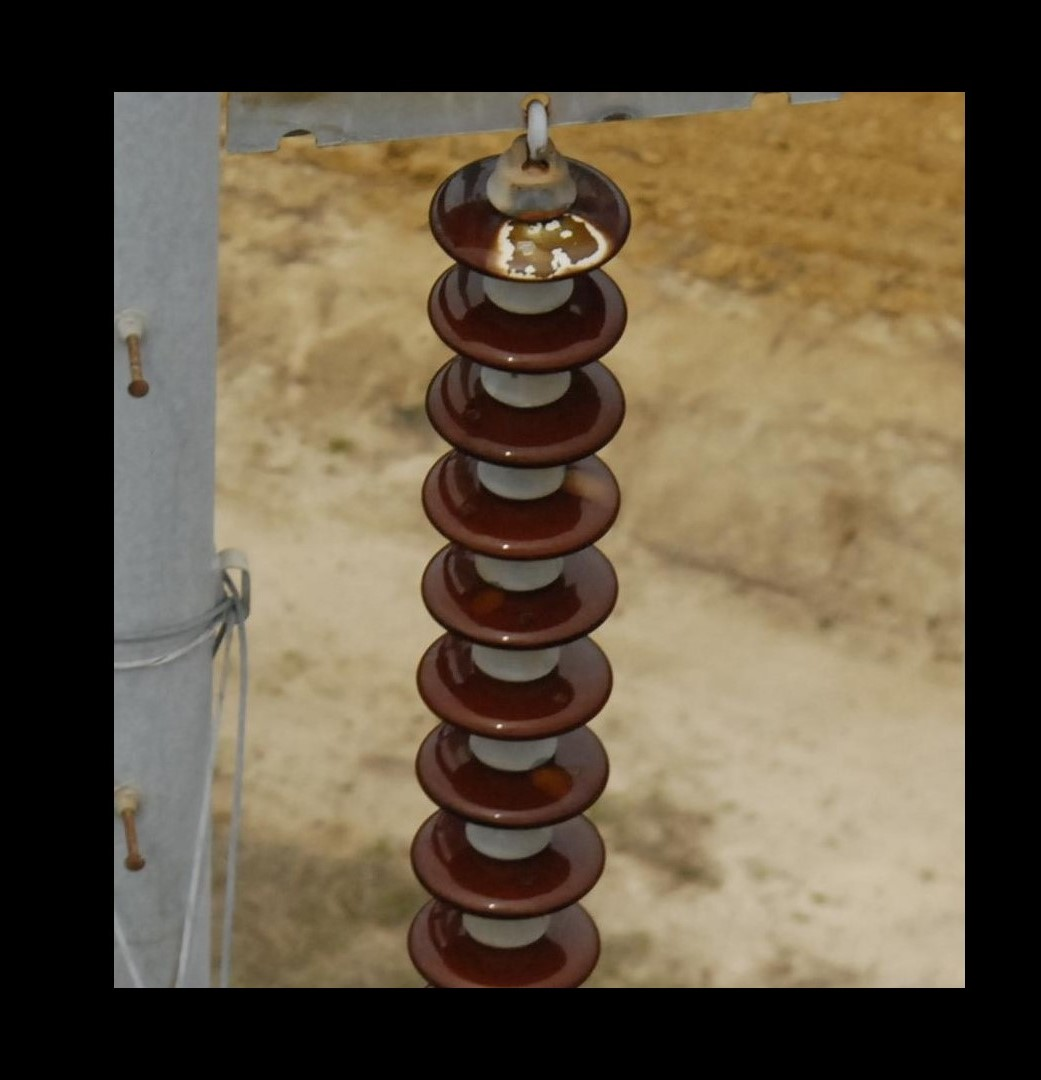Insulator flashover: (419, 149, 639, 287)
